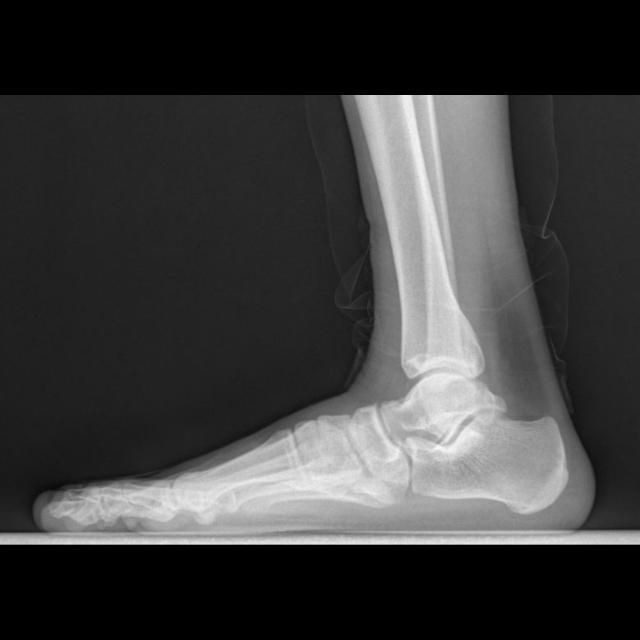a: (395, 390, 568, 513)
b: (348, 404, 409, 468)
c: (173, 426, 310, 524)
